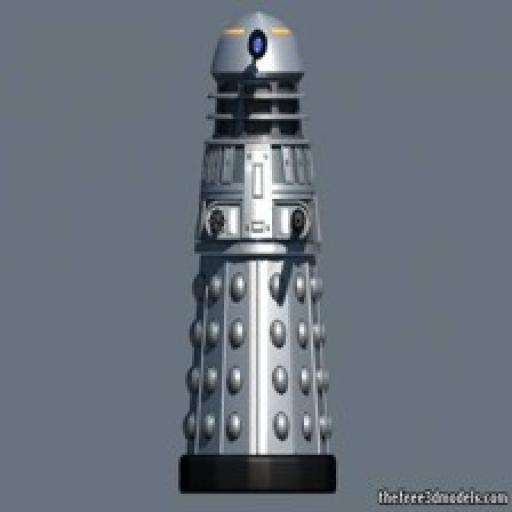dalek: (173, 9, 342, 494)
